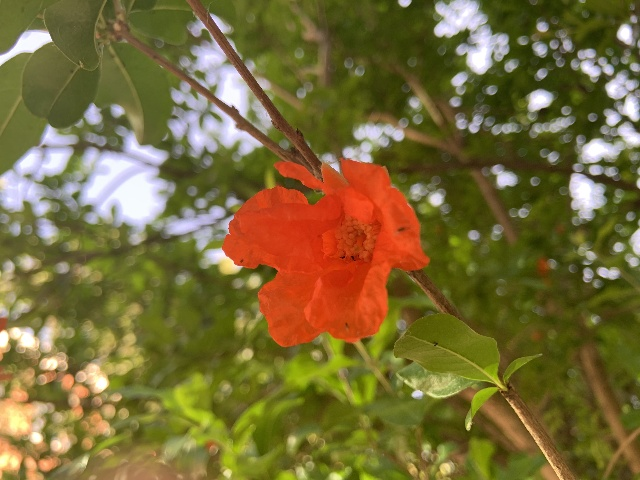flower: (222, 154, 428, 346)
